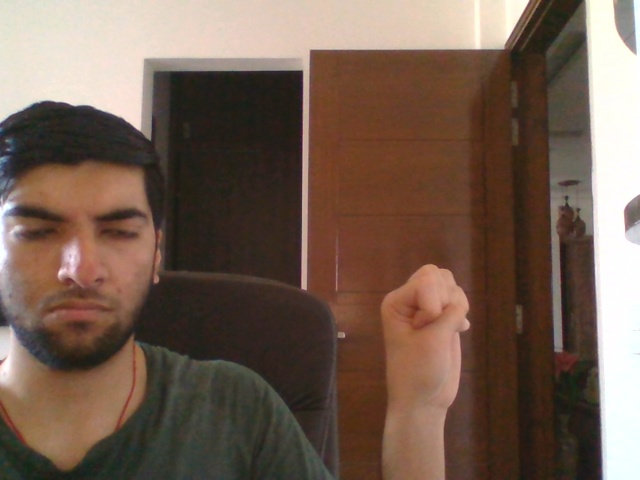LetterS: (378, 259, 473, 417)
